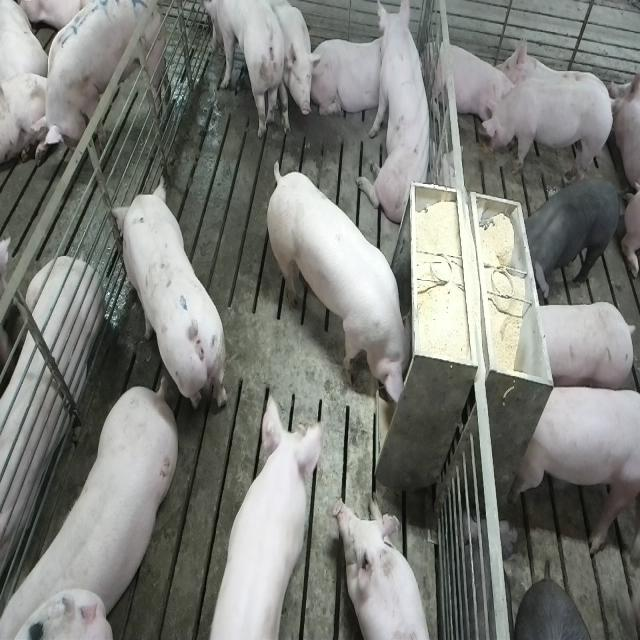Feeding: (270, 162, 420, 410), (198, 392, 324, 640)
Sitting: (361, 4, 436, 230), (261, 2, 315, 145)
Standing: (6, 376, 182, 634), (110, 183, 224, 419), (514, 382, 638, 558), (34, 0, 172, 152), (198, 1, 310, 143), (482, 80, 618, 184), (523, 178, 623, 288), (530, 299, 634, 392)
Sternal_lying: (0, 244, 100, 582), (333, 495, 434, 640), (430, 36, 512, 132), (311, 34, 391, 122)
